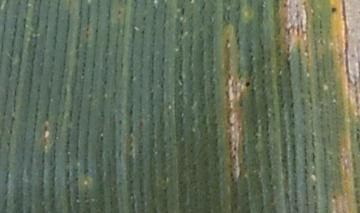tarspot: (241, 76, 255, 93), (327, 2, 340, 18)
